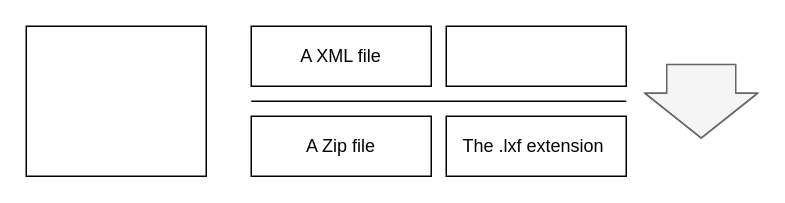
Some shapes in this 785 by 203 pixel diagram are drawn without their labels. Each missing label, with the centre of its shape:
"A Lenex file" goes at point 115,100.
"The .lef extension" goes at point 535,55.
